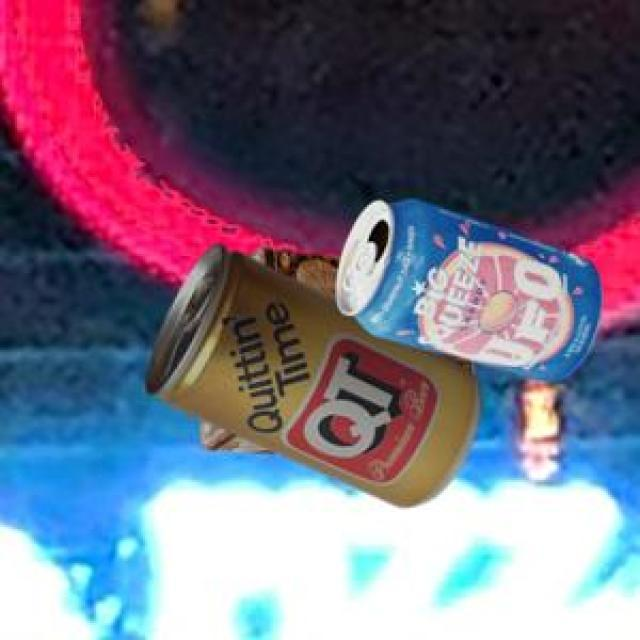Can: (144, 242, 477, 505), (197, 244, 469, 451), (334, 197, 598, 377)
